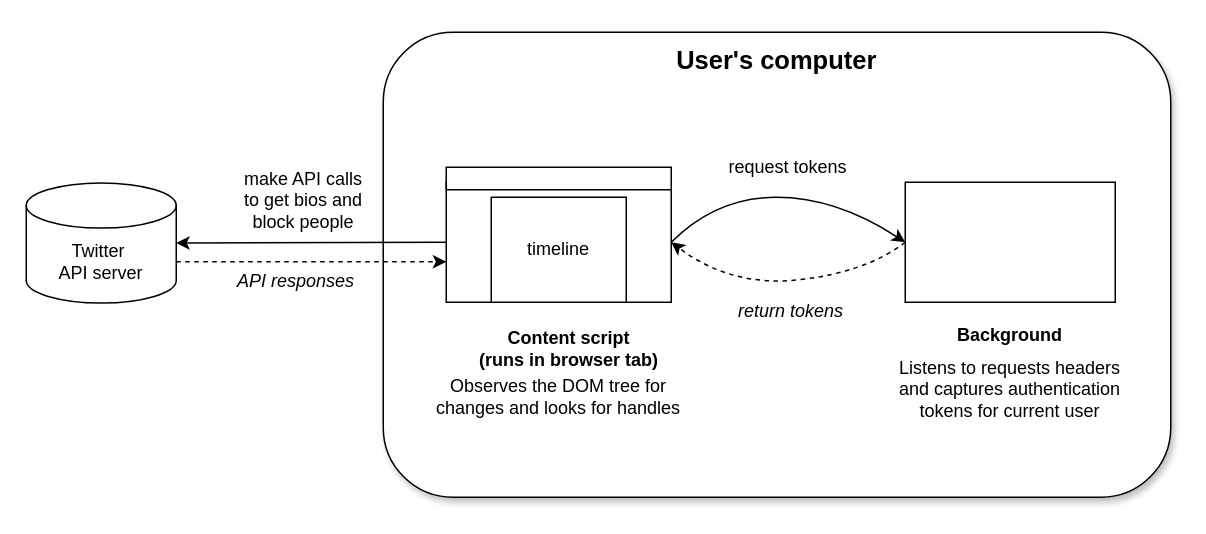
Some shapes in this 1206 by 534 pixel diagram are drawn without their labels. Here are the shapes that lost their labels. From the top down, the centre of each, then its label:
point (558, 178): twitter.com
point (1009, 241): Token module
